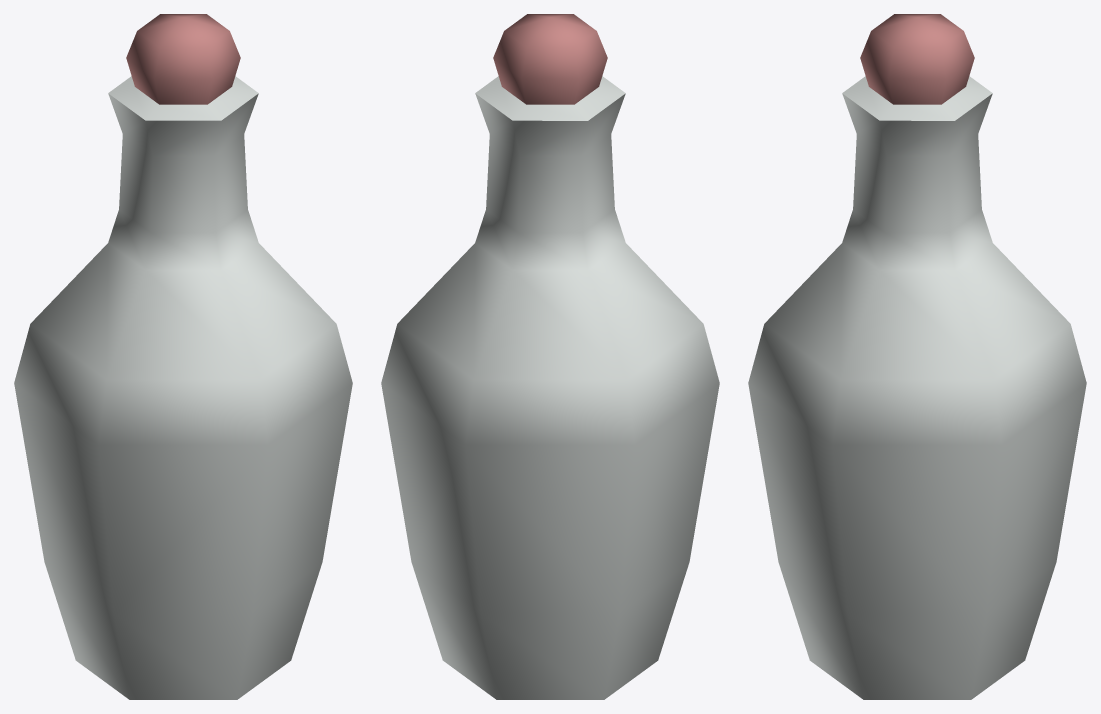
3 views of the same model, side by side, from view 1: azimuth 30°, elevation 25°; view 2: azimuth 150°, elevation 25°; view 3: azimuth 270°, elevation 25° (orthographic).
Visible parts, largest first — view 1: G:\FFXIV-MapTools\exports\u5f1\bg\ex4\04_uvs_u5\fld\u5f1\bgp (×2); view 2: G:\FFXIV-MapTools\exports\u5f1\bg\ex4\04_uvs_u5\fld\u5f1\bgp (×2); view 3: G:\FFXIV-MapTools\exports\u5f1\bg\ex4\04_uvs_u5\fld\u5f1\bgp (×2).
Boxes of the visible parts, x1,y1,x2,y2 form: G:\FFXIV-MapTools\exports\u5f1\bg\ex4\04_uvs_u5\fld\u5f1\bgp (×2): (14, 14, 352, 699); G:\FFXIV-MapTools\exports\u5f1\bg\ex4\04_uvs_u5\fld\u5f1\bgp (×2): (381, 14, 719, 699); G:\FFXIV-MapTools\exports\u5f1\bg\ex4\04_uvs_u5\fld\u5f1\bgp (×2): (748, 14, 1086, 699).
Size of the model in its own units: 0.1304 by 0.3152 by 0.1504.
